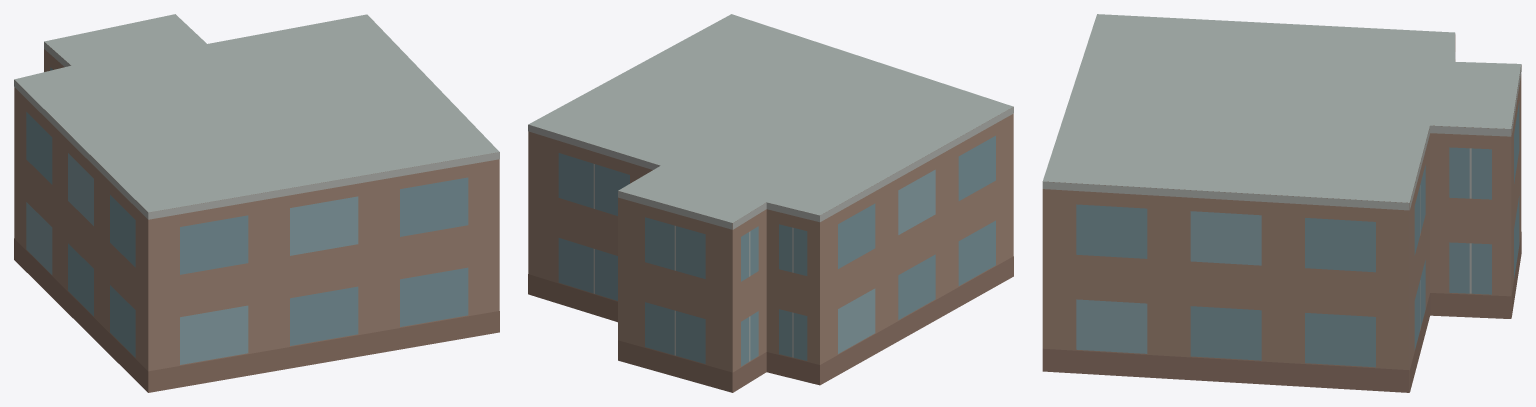
File: survey-upis-32491219.glb
3 renders of one model, left to right at view 1: azimuth 30°, elevation 25°; view 2: azimuth 150°, elevation 25°; view 3: azimuth 270°, elevation 25°, orthographic. The views are drawn at different scales.
Visible parts, largest first — view 1: survey-upis-32491219.tmp; view 2: survey-upis-32491219.tmp; view 3: survey-upis-32491219.tmp.
Part boxes in pixels (box(x1,y1,x2,y2)): survey-upis-32491219.tmp: box(14, 14, 499, 392); survey-upis-32491219.tmp: box(528, 14, 1013, 392); survey-upis-32491219.tmp: box(1042, 14, 1521, 392).
Size of the model in its own units: 13.02 by 6.1 by 13.94.
